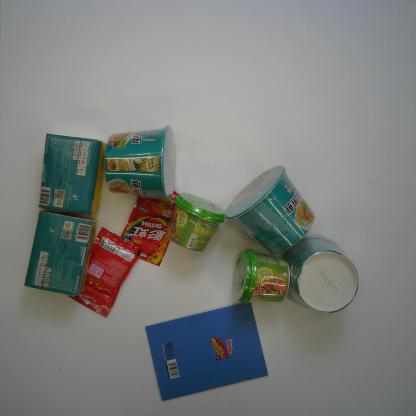Candy: (67, 226, 142, 318), (120, 196, 176, 267)
Instant Drink: (165, 192, 226, 254), (232, 247, 290, 304)
Instant Noodles: (224, 164, 316, 255), (278, 234, 359, 315), (104, 125, 178, 203)
Stationery: (144, 300, 268, 402)
Tissue: (23, 208, 98, 298), (37, 133, 107, 216)
